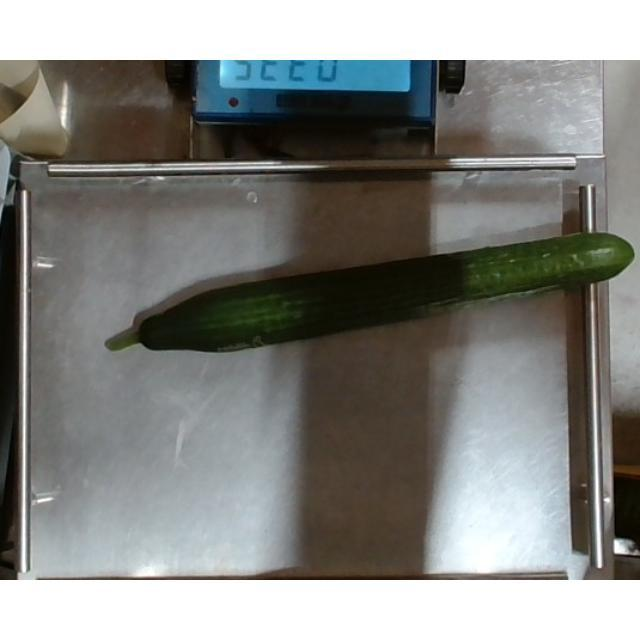cucumber: (106, 232, 638, 356)
